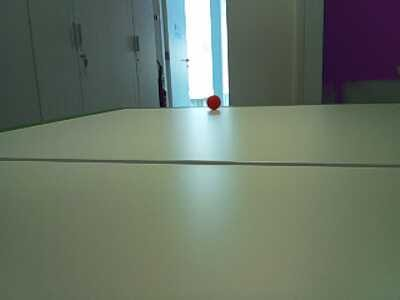bola_lejos: (206, 93, 221, 110)
